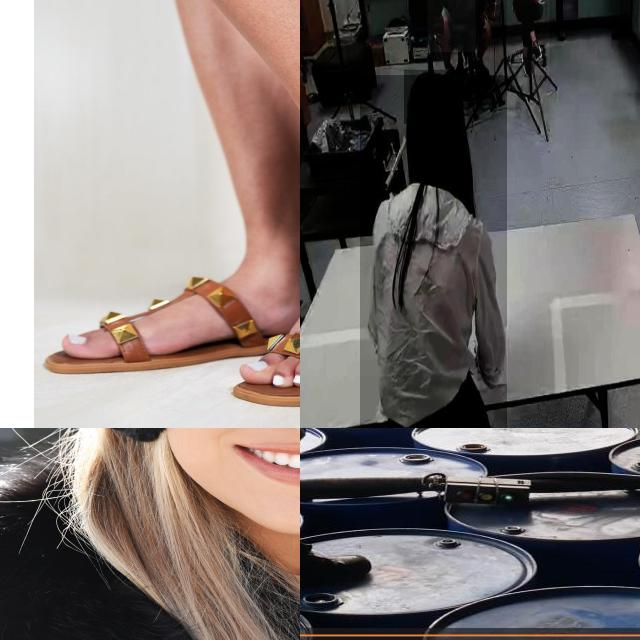Sandals: (231, 159, 300, 406)
head_nohelmet: (404, 70, 464, 125)
person: (360, 75, 507, 428), (507, 0, 550, 76), (427, 0, 476, 53)
